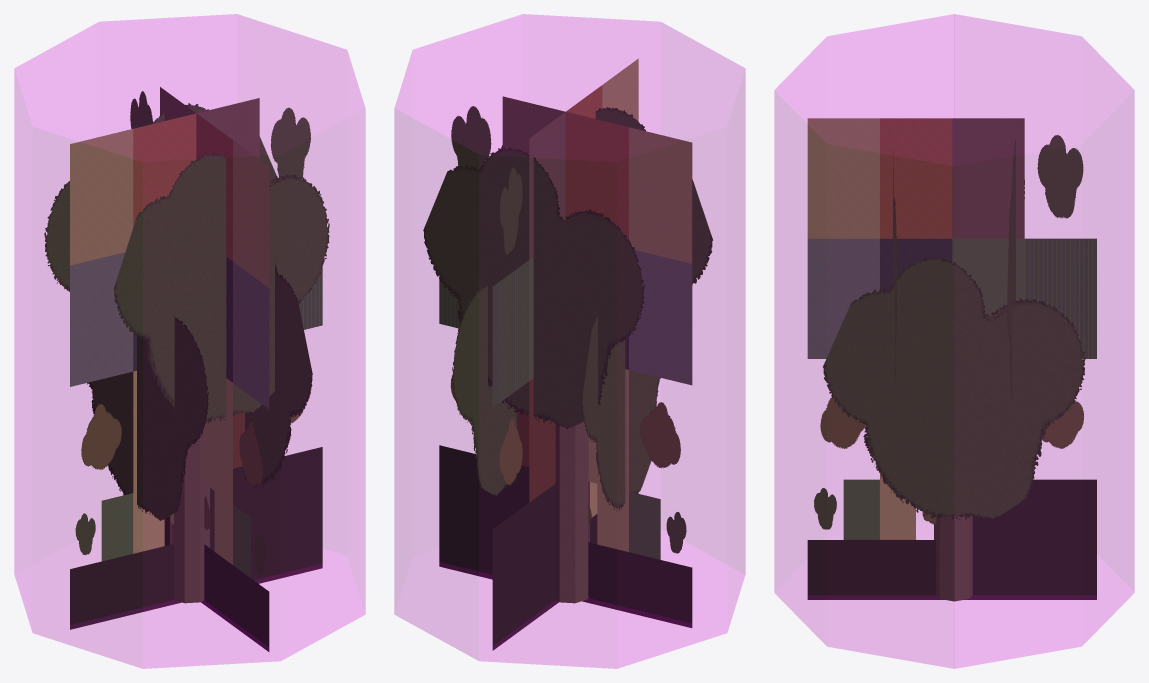
The model's file is creosote_large.dae.
3 views of the same model, side by side, from view 1: azimuth 30°, elevation 25°; view 2: azimuth 150°, elevation 25°; view 3: azimuth 270°, elevation 25° (orthographic).
Visible parts, largest first — view 1: Colmesh_bush-1, creosote_large_a50, creosote_large_a800, creosote_large_a200; view 2: Colmesh_bush-1, creosote_large_a50, creosote_large_a800, creosote_large_a200; view 3: Colmesh_bush-1, creosote_large_a50, creosote_large_a200, creosote_large_a800.
Part boxes in pixels (x1=…): Colmesh_bush-1: x1=14, y1=14, x2=365, y2=668; creosote_large_a50: x1=70, y1=87, x2=322, y2=651; creosote_large_a800: x1=44, y1=103, x2=329, y2=603; creosote_large_a200: x1=44, y1=117, x2=329, y2=520; Colmesh_bush-1: x1=394, y1=14, x2=745, y2=668; creosote_large_a50: x1=439, y1=58, x2=692, y2=650; creosote_large_a800: x1=423, y1=107, x2=712, y2=603; creosote_large_a200: x1=423, y1=109, x2=712, y2=511; Colmesh_bush-1: x1=774, y1=14, x2=1134, y2=668; creosote_large_a50: x1=807, y1=118, x2=1096, y2=599; creosote_large_a200: x1=823, y1=141, x2=1085, y2=520; creosote_large_a800: x1=823, y1=140, x2=1085, y2=601.
Bounding box in the file's own units: 1.05 × 1.05 × 1.63.
Materials: 3 (2 with a texture image).
